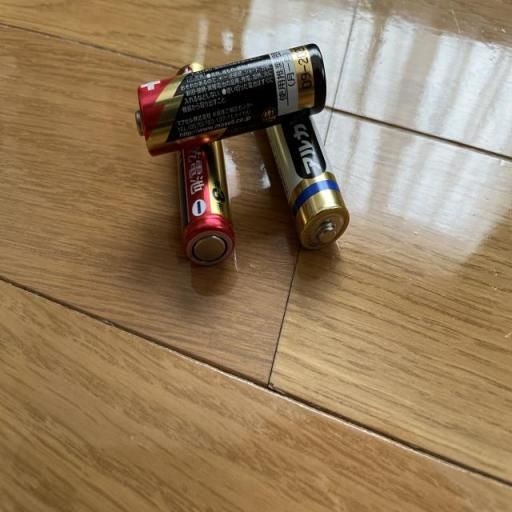battery: (130, 42, 330, 162), (166, 60, 240, 268), (254, 112, 356, 251)
